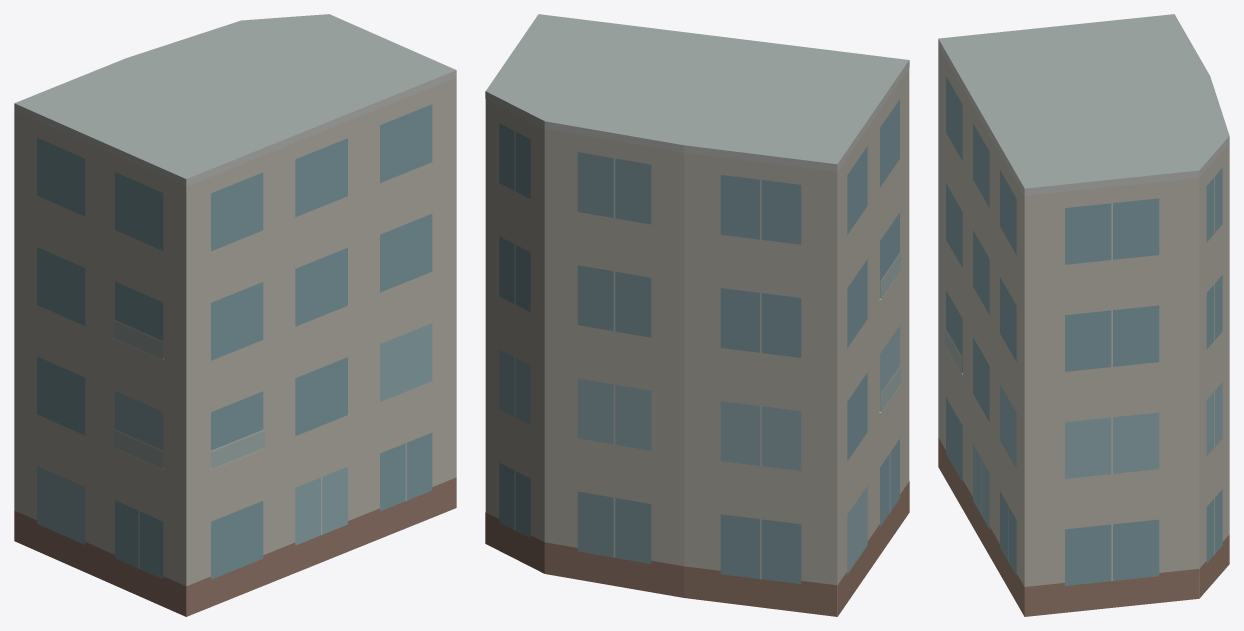
File: survey-upis-32916326.glb
3 views of the same model, side by side, from view 1: azimuth 30°, elevation 25°; view 2: azimuth 150°, elevation 25°; view 3: azimuth 270°, elevation 25° (orthographic). The views are drawn at different scales.
Visible parts, largest first — view 1: survey-upis-32916326.tmp; view 2: survey-upis-32916326.tmp; view 3: survey-upis-32916326.tmp.
Boxes of the visible parts, x1,y1,x2,y2 form: survey-upis-32916326.tmp: (14,14,456,616); survey-upis-32916326.tmp: (485,14,909,616); survey-upis-32916326.tmp: (938,14,1229,616).
Size of the model in its own units: 12.69 by 14.5 by 8.95.
